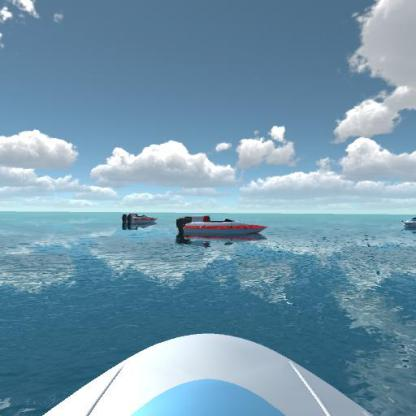usv1: (399, 212, 415, 232)
usv3: (174, 214, 272, 243), (115, 205, 159, 228)
